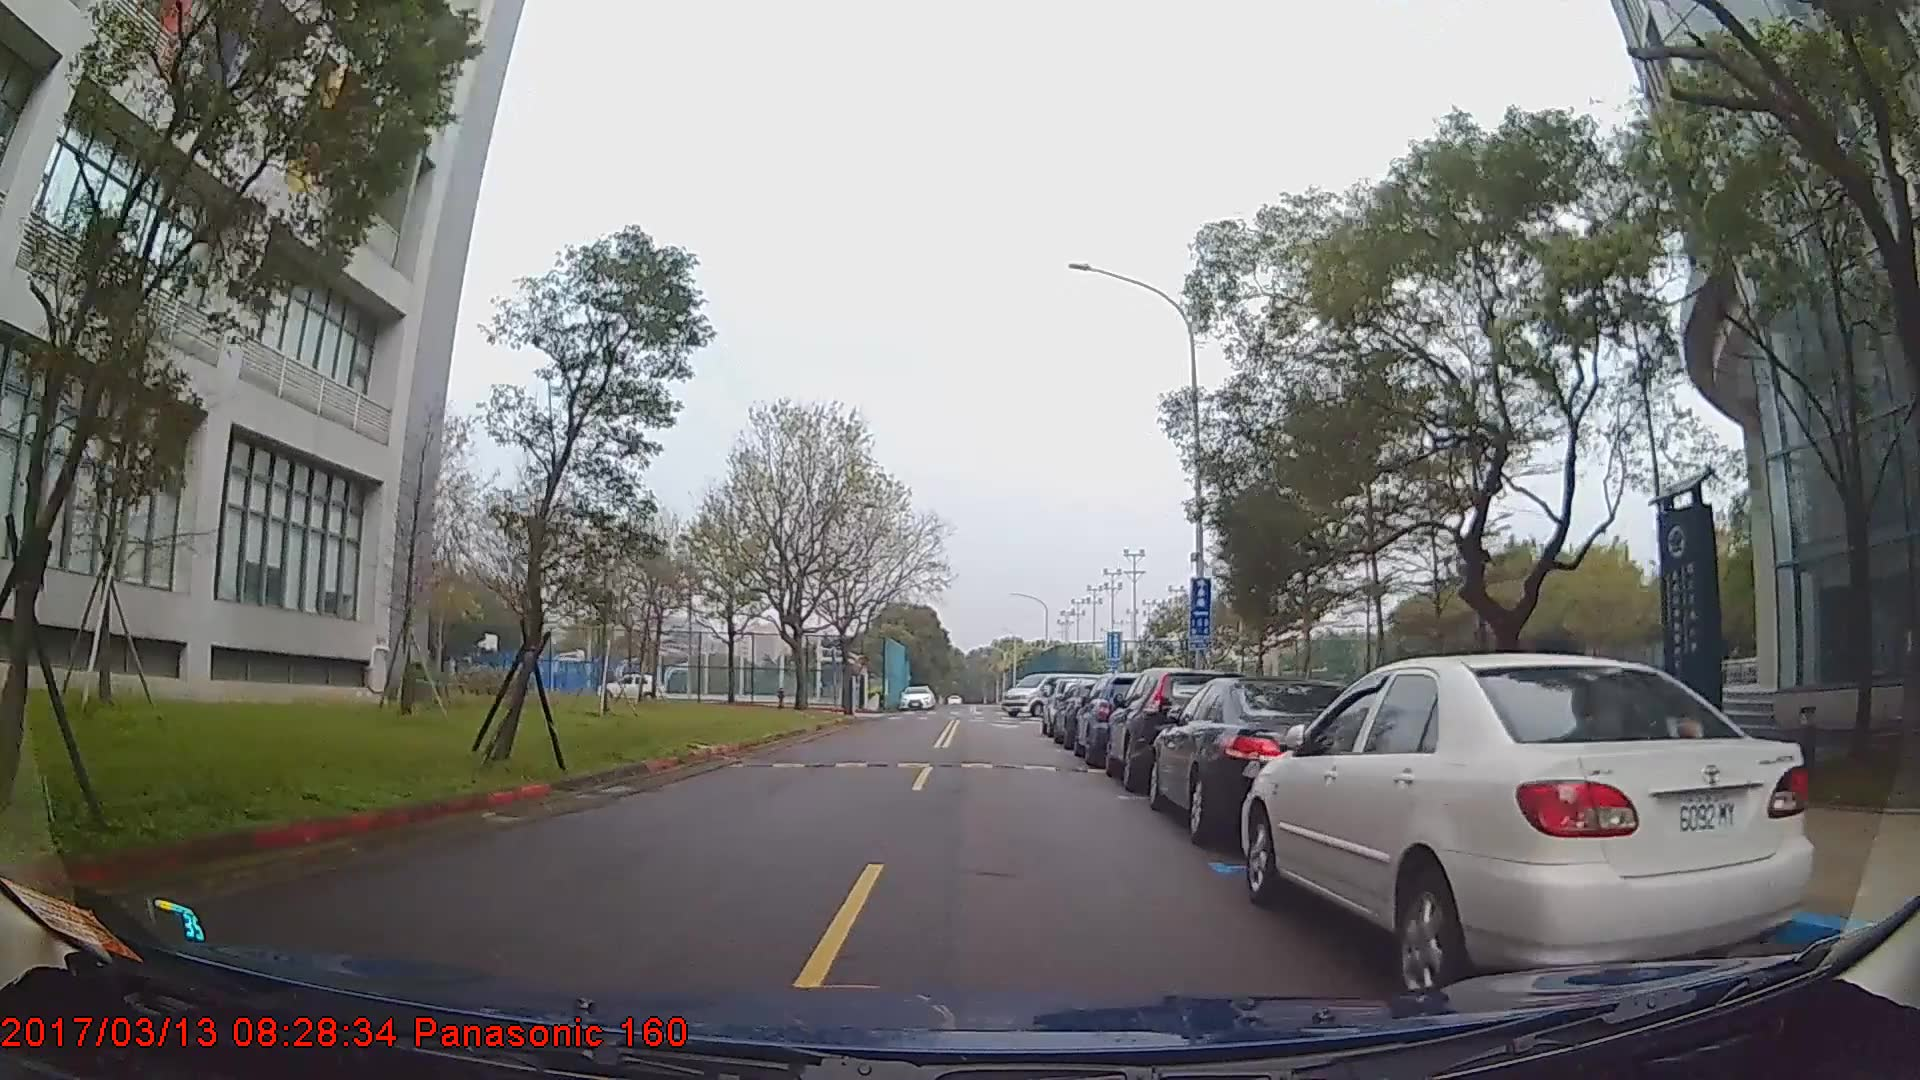vehicle: (1238, 650, 1818, 1002), (1151, 673, 1378, 845), (1102, 666, 1245, 793), (1073, 673, 1163, 770), (1001, 670, 1108, 717), (593, 670, 665, 699), (899, 683, 935, 708)
